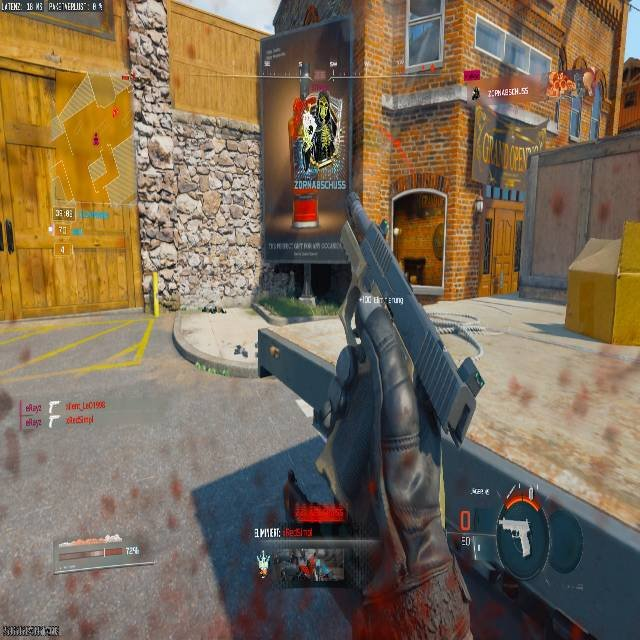player: (299, 92, 340, 174)
